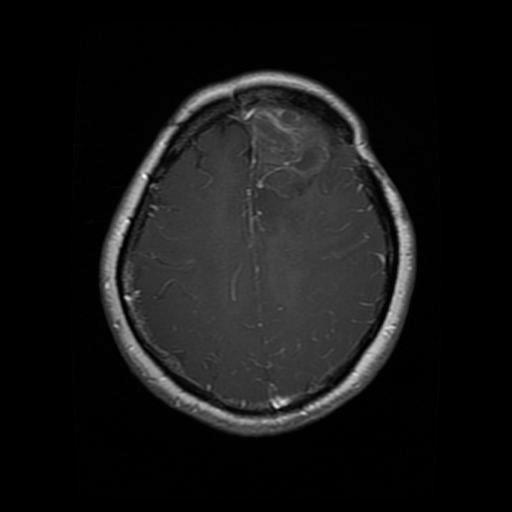Tumour-Glioma: (246, 103, 346, 182)
